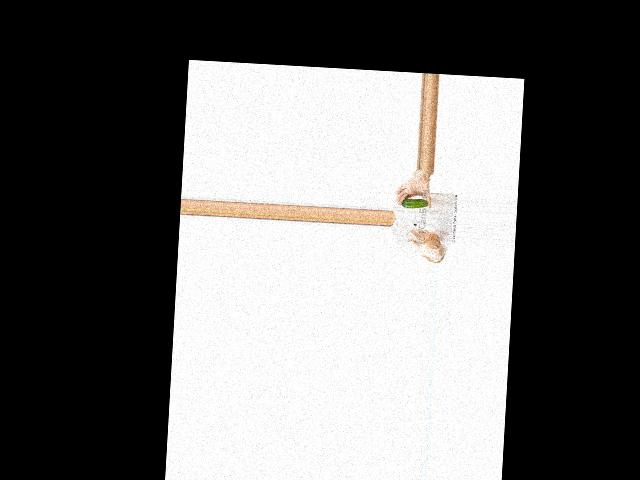cucumber: (401, 197, 428, 208)
